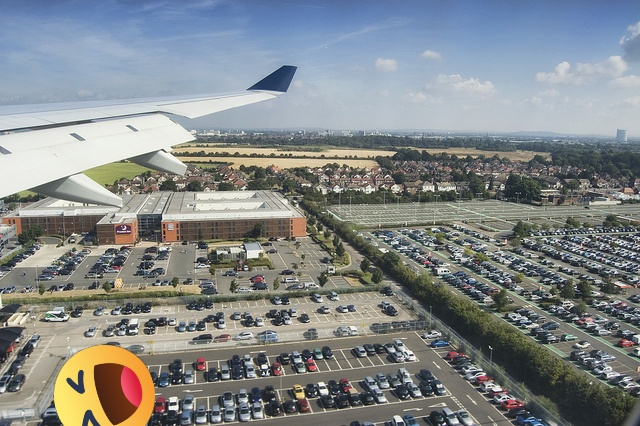haha: (54, 345, 155, 426)
